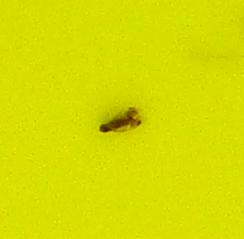Hemiptera: (100, 100, 144, 139)
